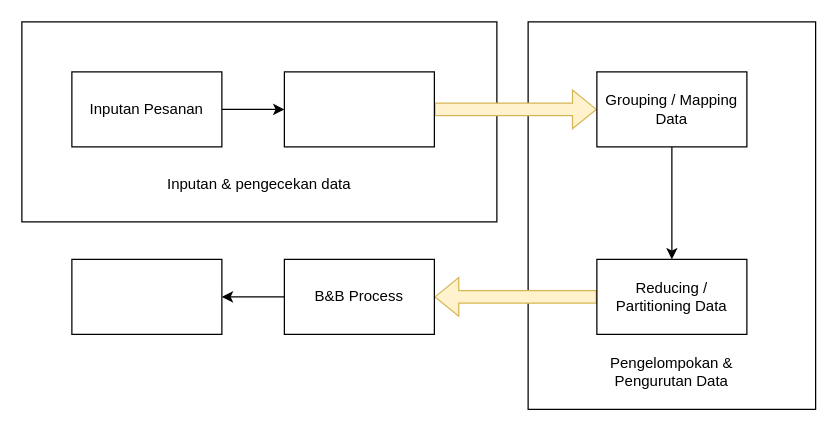
Some shapes in this 838 by 431 pixel diagram are drawn without their labels. The shapes that lost their labels are listed below. From the top down, each one's centre as x and y in pixels, then its label:
At (x=358, y=109): "Pengecekan Data".
At (x=146, y=296): "Daya yang sudah diurutkan".
